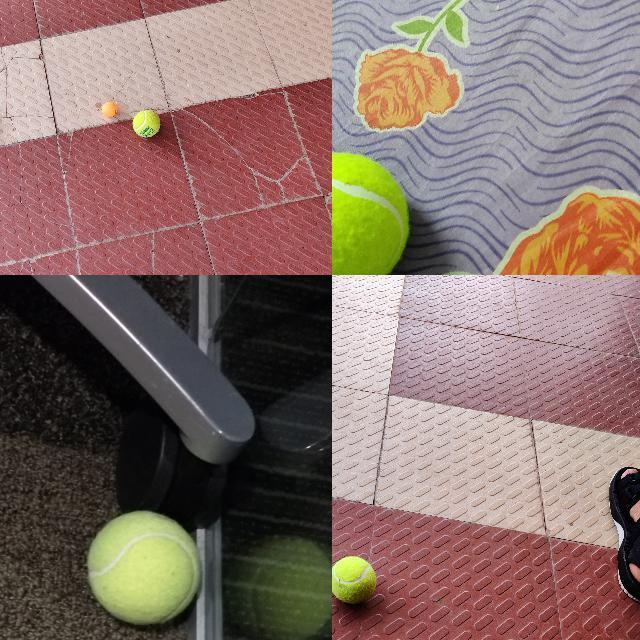tennis-ball: (85, 510, 201, 627), (332, 152, 411, 274), (332, 557, 376, 604), (132, 109, 160, 137)
